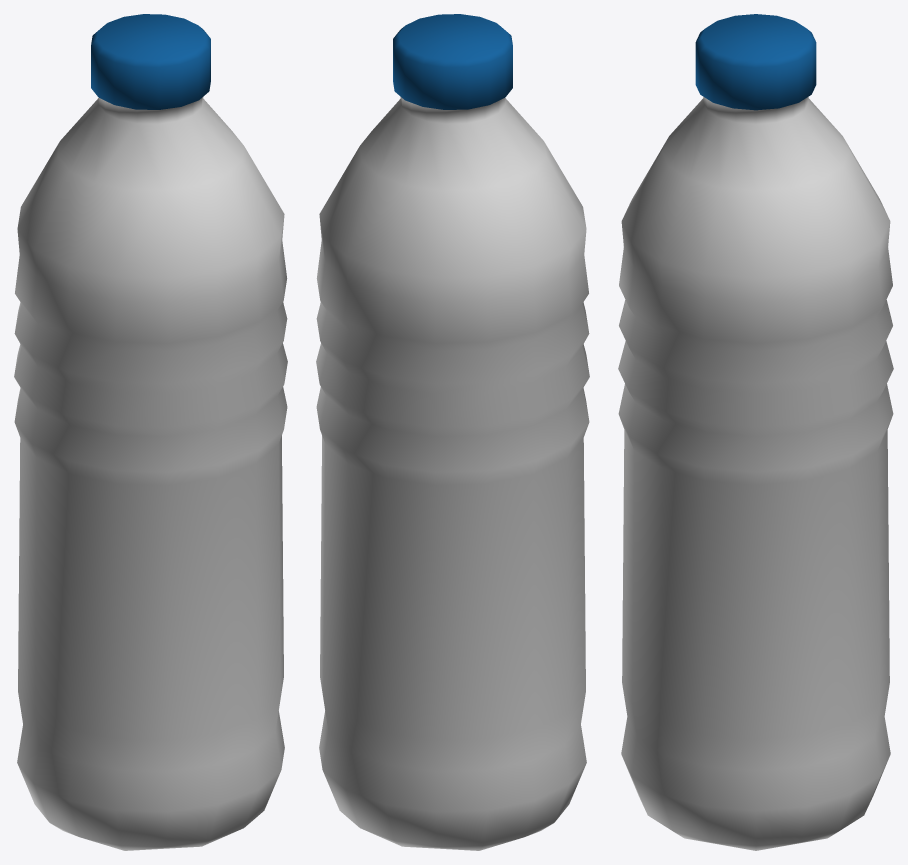
Rendered from model_medium.glb.
The picture shows the model from 3 angles, left to right: view 1: azimuth 30°, elevation 25°; view 2: azimuth 150°, elevation 25°; view 3: azimuth 270°, elevation 25°; orthographic projection.
Parts seen in each view (by area): view 1: Plastic_bottle.003; view 2: Plastic_bottle.003; view 3: Plastic_bottle.003.
Part boxes in pixels (x1,y1,x2,y2): Plastic_bottle.003: (14,14,287,850); Plastic_bottle.003: (316,14,589,850); Plastic_bottle.003: (618,14,893,850).
Bounding box in the file's own units: 0.0745 × 0.23 × 0.0745.
